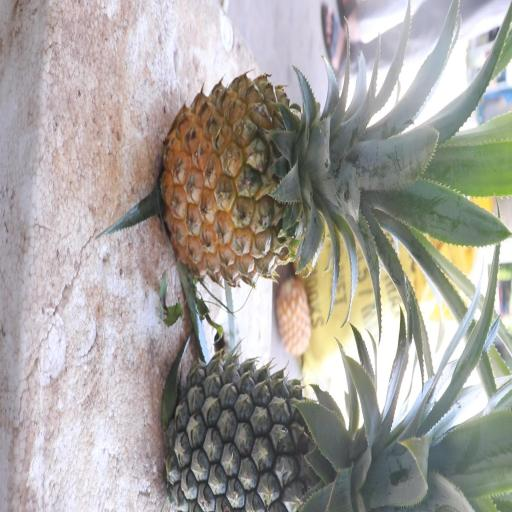Pineapple - v8 v1: (158, 78, 450, 304)
